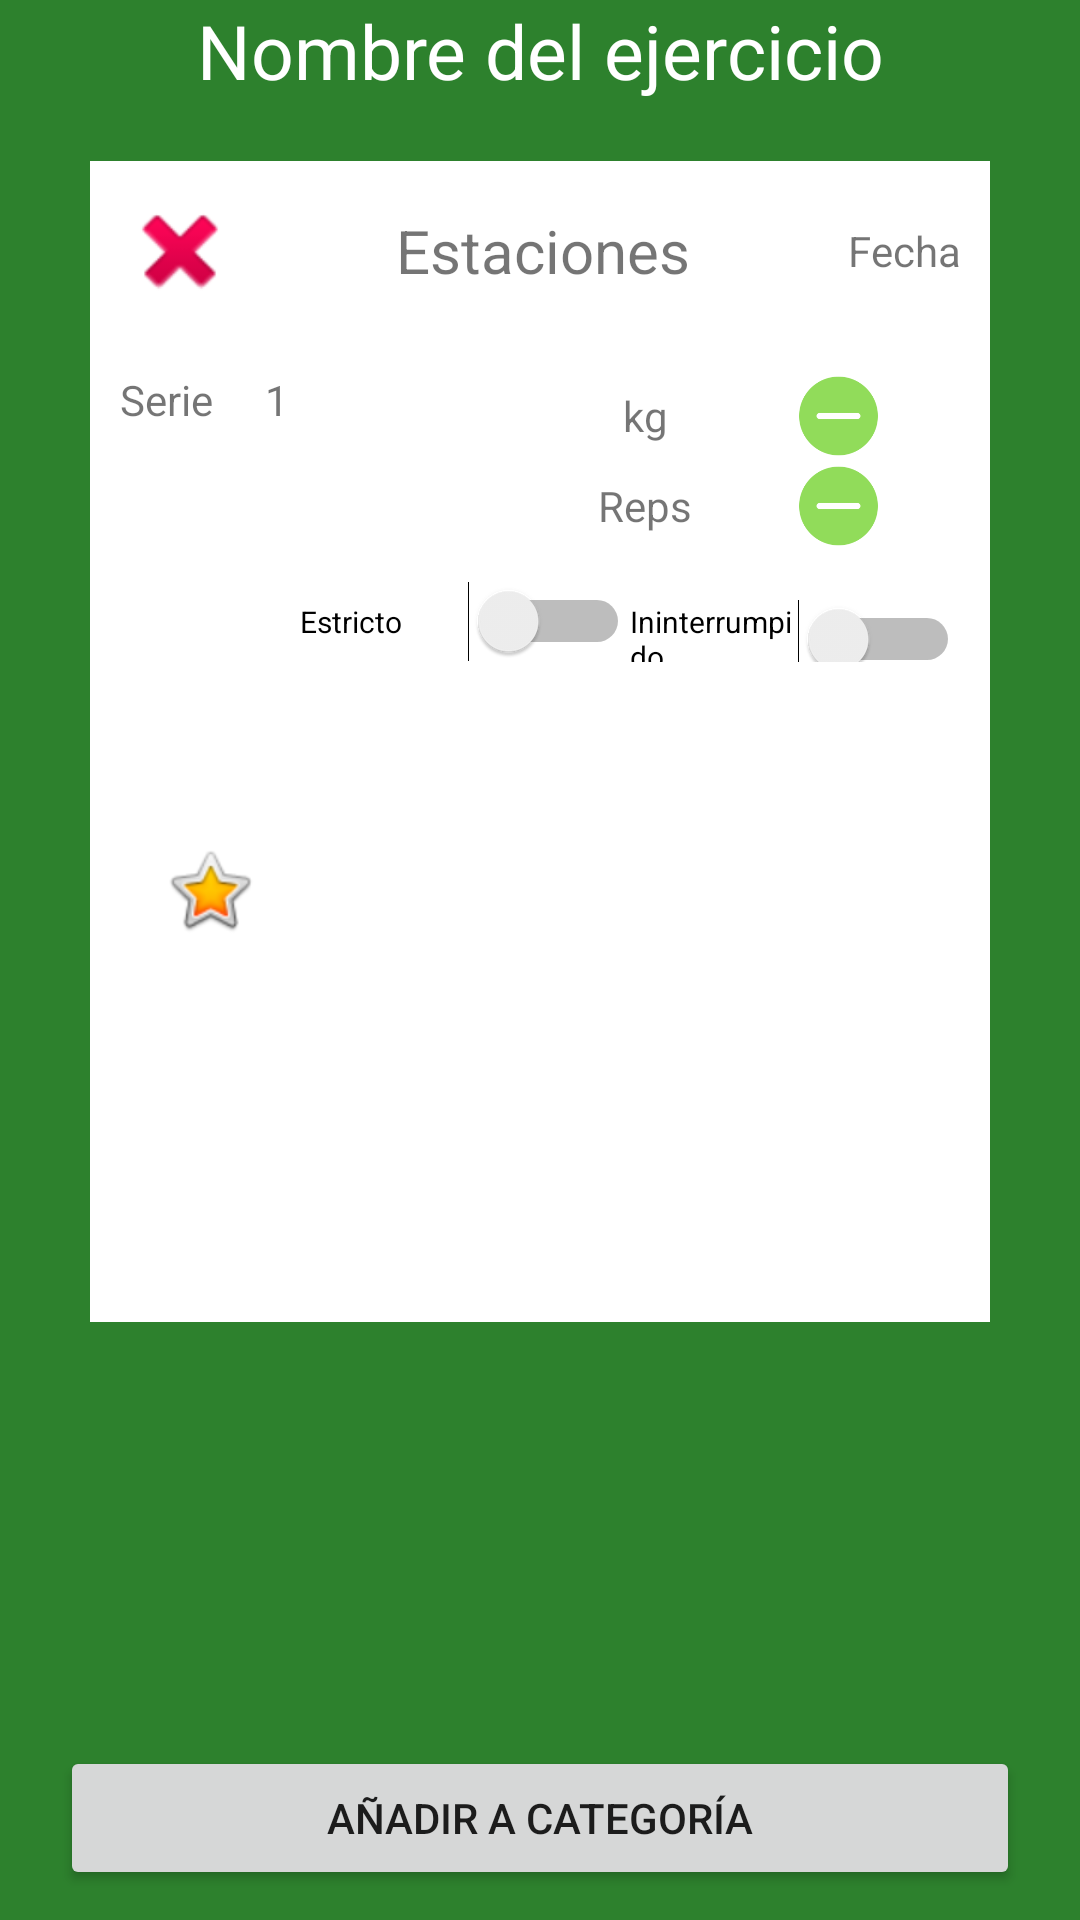

Where icons sit on this 1080 x 1920 app screen, as box=[x1, y1, x2, y2]:
delete: box=[142, 215, 218, 289]
menos: box=[799, 376, 878, 456], box=[799, 466, 878, 546]
star on: box=[171, 852, 251, 930]
